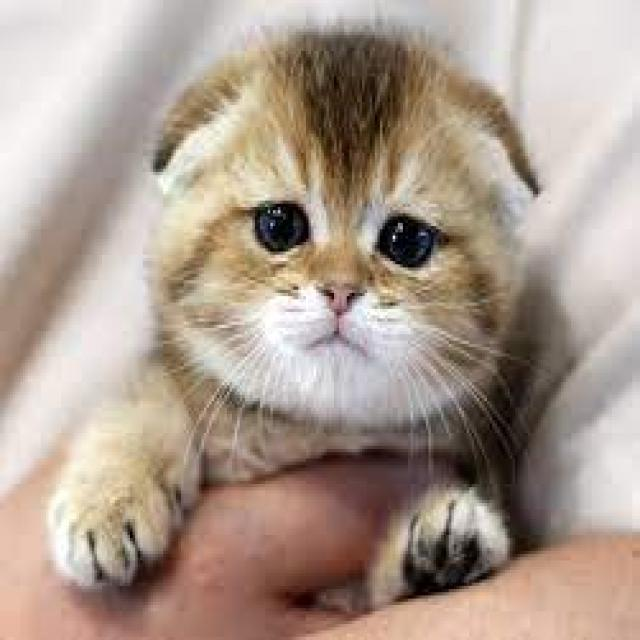cat-face: (89, 3, 639, 496)
